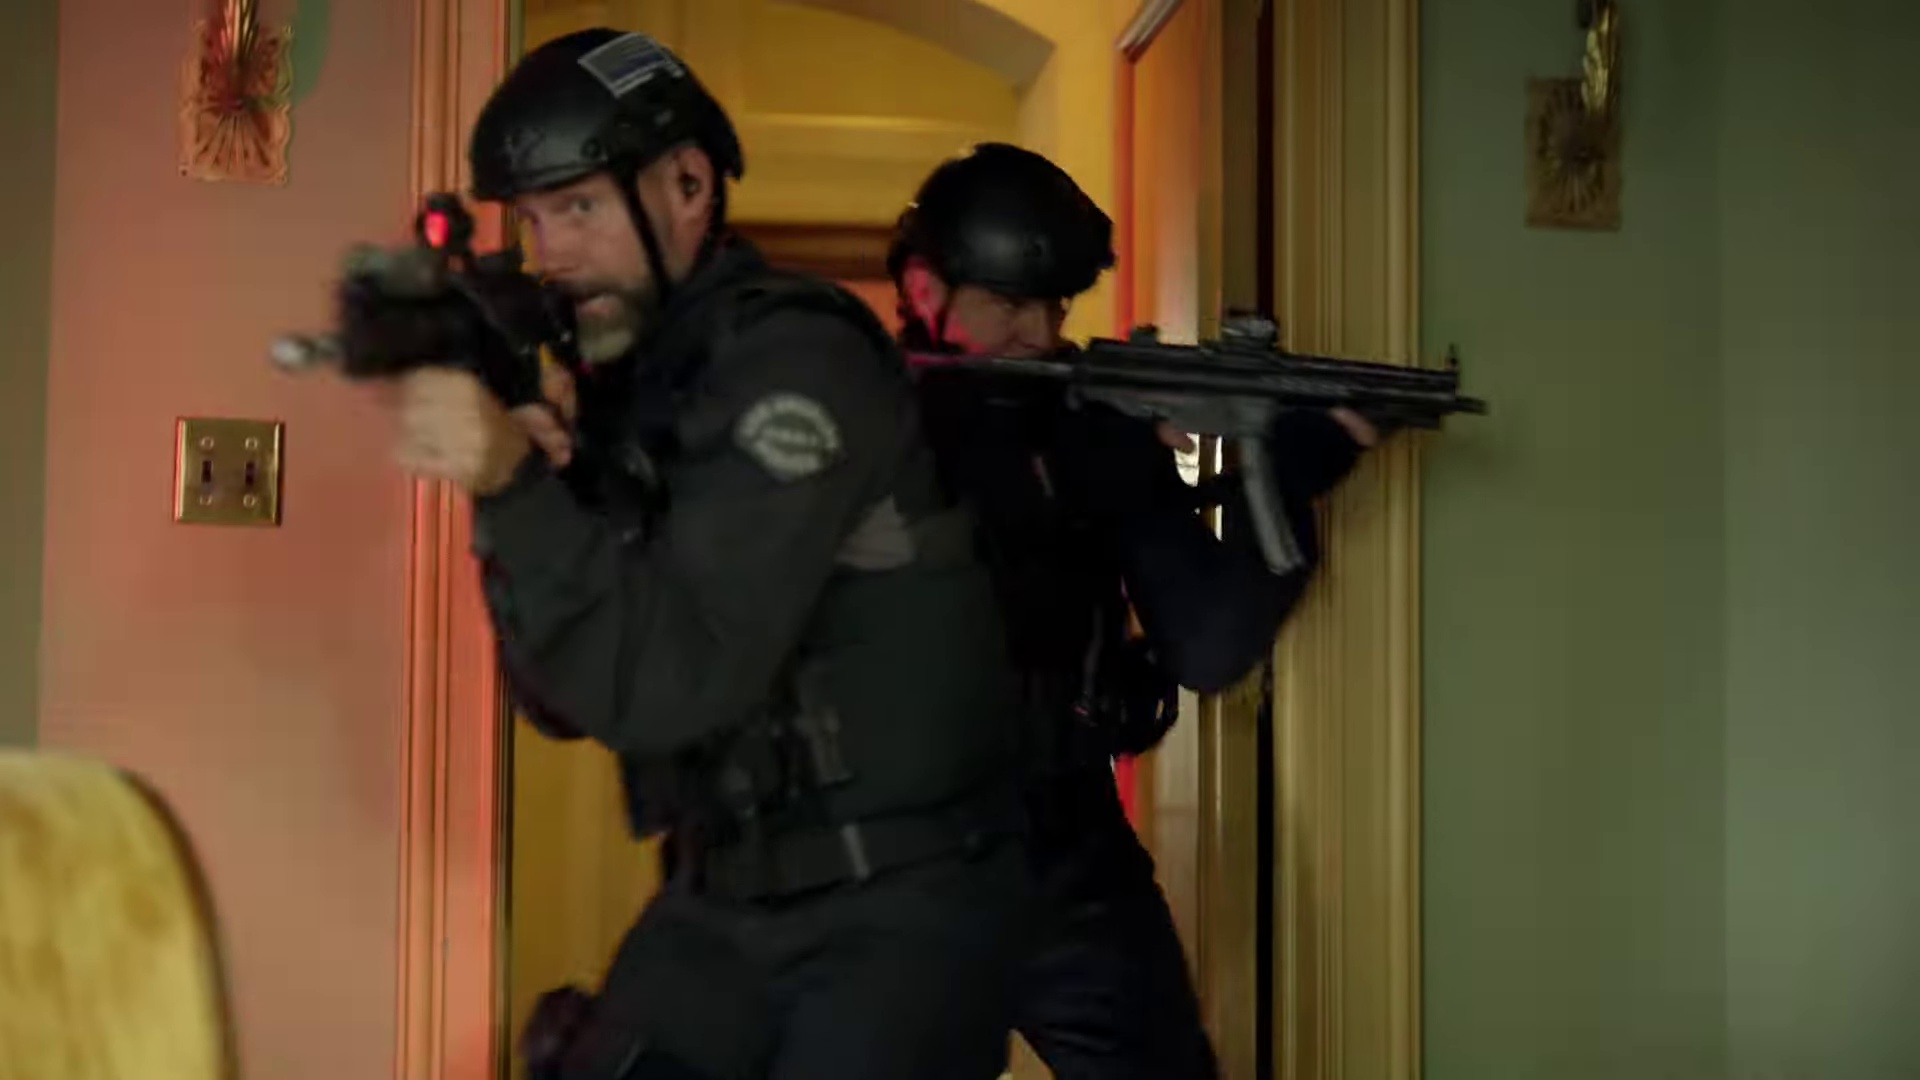gun: (882, 302, 1494, 579), (299, 190, 563, 405)
p_w_gun: (297, 30, 1027, 1080), (835, 137, 1495, 1080)
